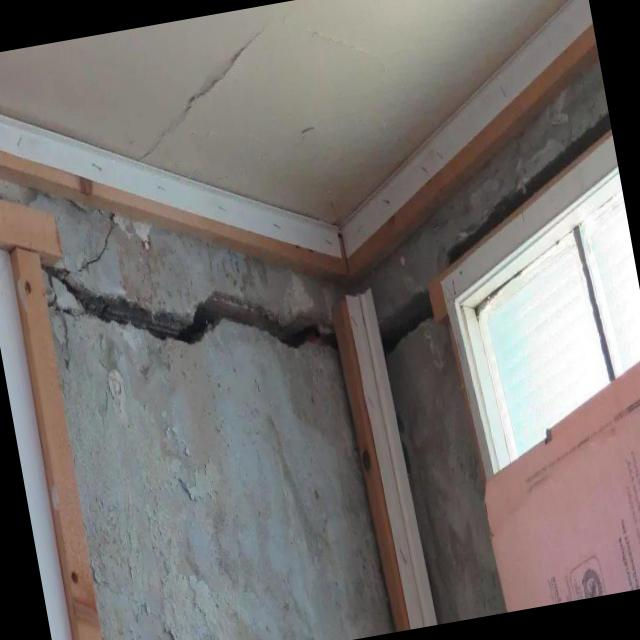crack: (436, 113, 611, 267), (41, 265, 334, 348), (379, 292, 432, 349)
